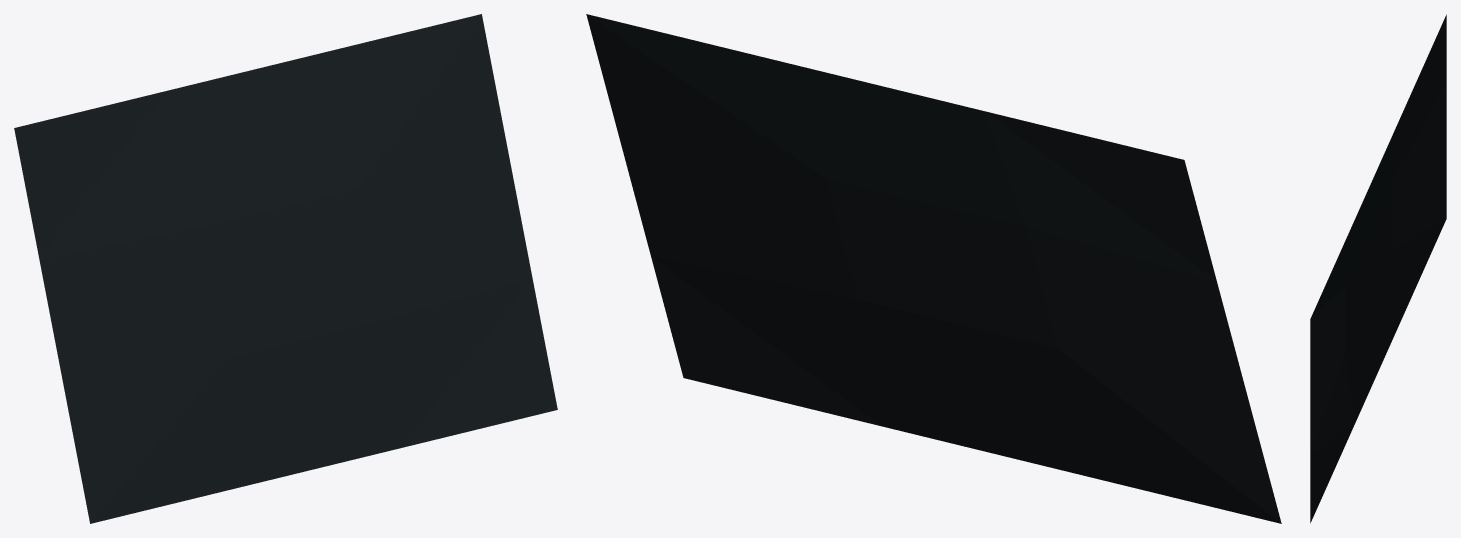
Rendered from tmnt_screen.obj.
3 renders of one model, left to right at view 1: azimuth 30°, elevation 25°; view 2: azimuth 150°, elevation 25°; view 3: azimuth 270°, elevation 25°, orthographic. The views are drawn at different scales.
Visible parts, largest first — view 1: CRT_screen; view 2: CRT_screen; view 3: CRT_screen.
Part boxes in pixels (left/top/right/bottom): CRT_screen: left=14, top=14, right=557, bottom=523; CRT_screen: left=586, top=14, right=1281, bottom=523; CRT_screen: left=1310, top=14, right=1446, bottom=523.
Size of the model in its own units: 0.6 by 0.4171 by 0.1689.
1 material, 1 textured.
